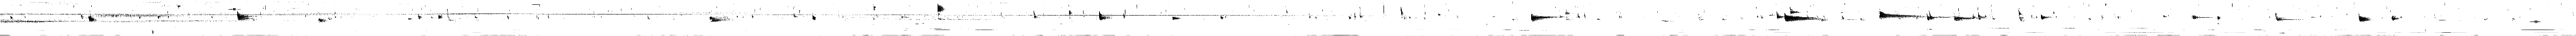meteor: (1879, 10, 1924, 20), (1784, 11, 1820, 21), (1531, 13, 1557, 21), (2275, 13, 2298, 21), (1925, 13, 1950, 20), (237, 11, 255, 20), (710, 16, 729, 23), (1099, 10, 1112, 20), (1953, 15, 1973, 21), (2357, 13, 2371, 23), (1978, 8, 1988, 20), (2192, 15, 2213, 20), (936, 3, 946, 13), (1789, 7, 1801, 15), (1776, 11, 1784, 20), (2392, 15, 2402, 21), (2040, 15, 2052, 20), (1033, 10, 1040, 18), (89, 16, 97, 21), (319, 18, 327, 23), (417, 13, 422, 20), (1171, 16, 1181, 20), (793, 13, 798, 18), (813, 15, 816, 21), (10, 15, 13, 20)
